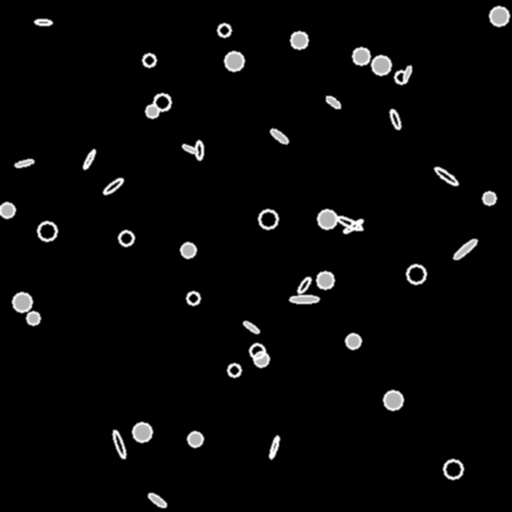pseudomonas: (452, 237, 478, 261), (335, 214, 363, 232), (434, 166, 458, 186), (111, 429, 127, 459), (342, 217, 364, 235), (102, 177, 124, 195), (269, 127, 289, 145), (147, 491, 167, 509), (388, 108, 402, 130), (296, 276, 312, 294), (242, 319, 260, 335), (82, 149, 96, 169), (268, 436, 280, 458), (325, 95, 341, 109), (290, 295, 318, 303), (14, 158, 34, 168), (182, 143, 198, 155), (402, 65, 412, 81), (195, 141, 203, 159), (34, 19, 52, 25)
synechocystis: (372, 56, 390, 74), (384, 391, 402, 409), (225, 52, 243, 70), (13, 293, 31, 311), (318, 210, 336, 228), (444, 460, 462, 478), (490, 7, 508, 25), (38, 222, 56, 240), (133, 423, 151, 441), (259, 210, 277, 228), (407, 265, 425, 283), (154, 94, 170, 110), (353, 48, 369, 64), (317, 272, 333, 288), (291, 32, 307, 48), (181, 243, 195, 257), (119, 231, 133, 245), (188, 432, 202, 446), (254, 352, 268, 366), (250, 344, 264, 358), (0, 203, 14, 217), (346, 334, 360, 348), (187, 292, 199, 304), (218, 24, 230, 36), (228, 364, 240, 376), (143, 54, 155, 66), (483, 192, 495, 204), (395, 71, 407, 83), (146, 105, 158, 117), (27, 312, 39, 324)
